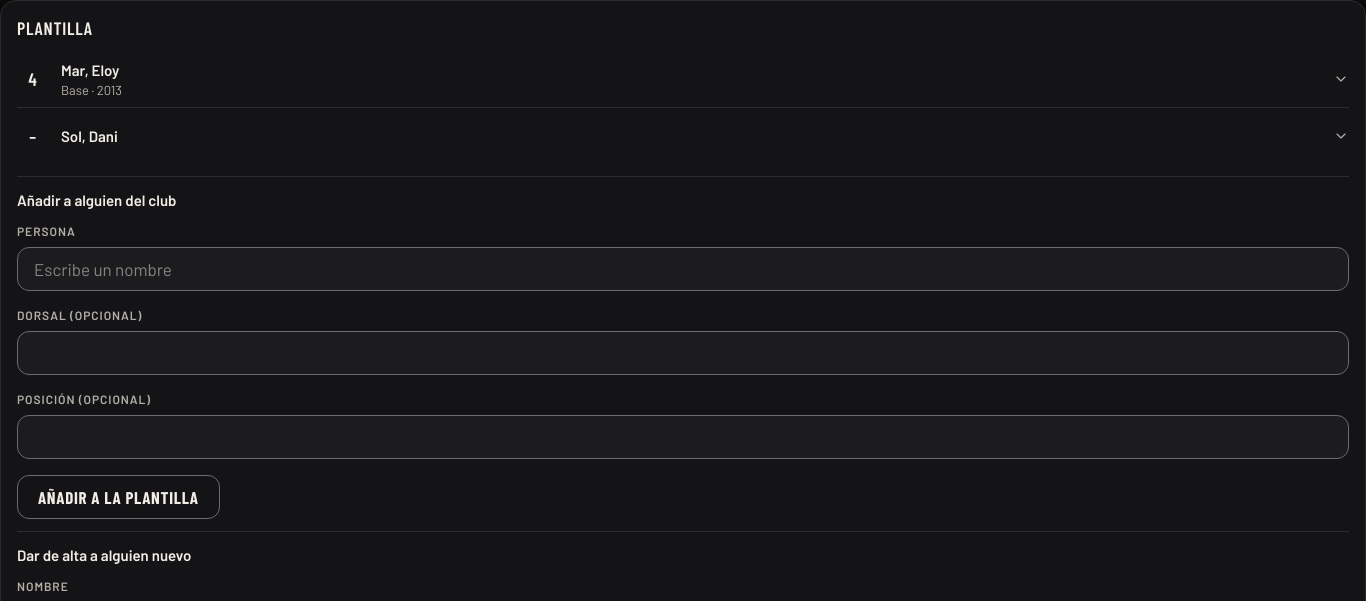
Test: RosterSection · añadir a alguien del club › añade a la persona elegida con su dorsal, como número, y su posición
The width and height of the screenshot is (1366, 601).
Type "soler" into the search field labelled "Persona".
click(683, 269); type("soler")  # box x1=17 y1=247 x2=1349 y2=291
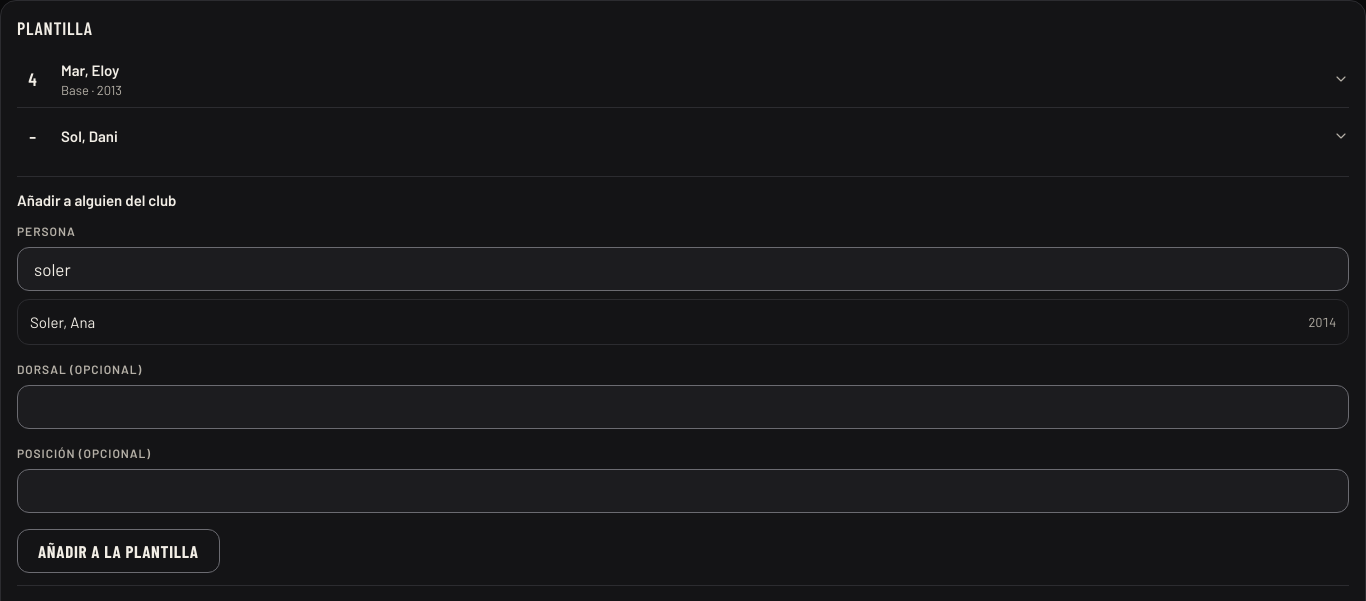
Click the button "Soler, Ana 2014".
click(63, 322)  # box x1=18 y1=300 x2=1348 y2=344
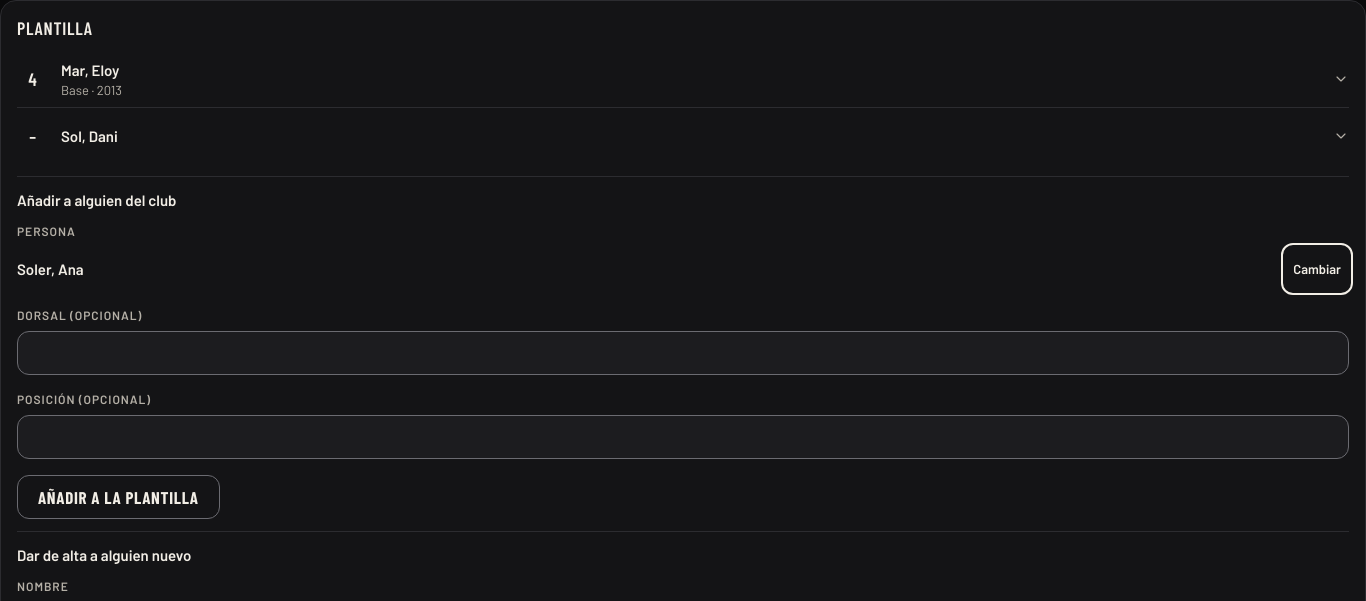
Type "7" into the number field labelled "Dorsal (opcional)".
click(683, 353); type("7")  # box x1=17 y1=331 x2=1349 y2=375
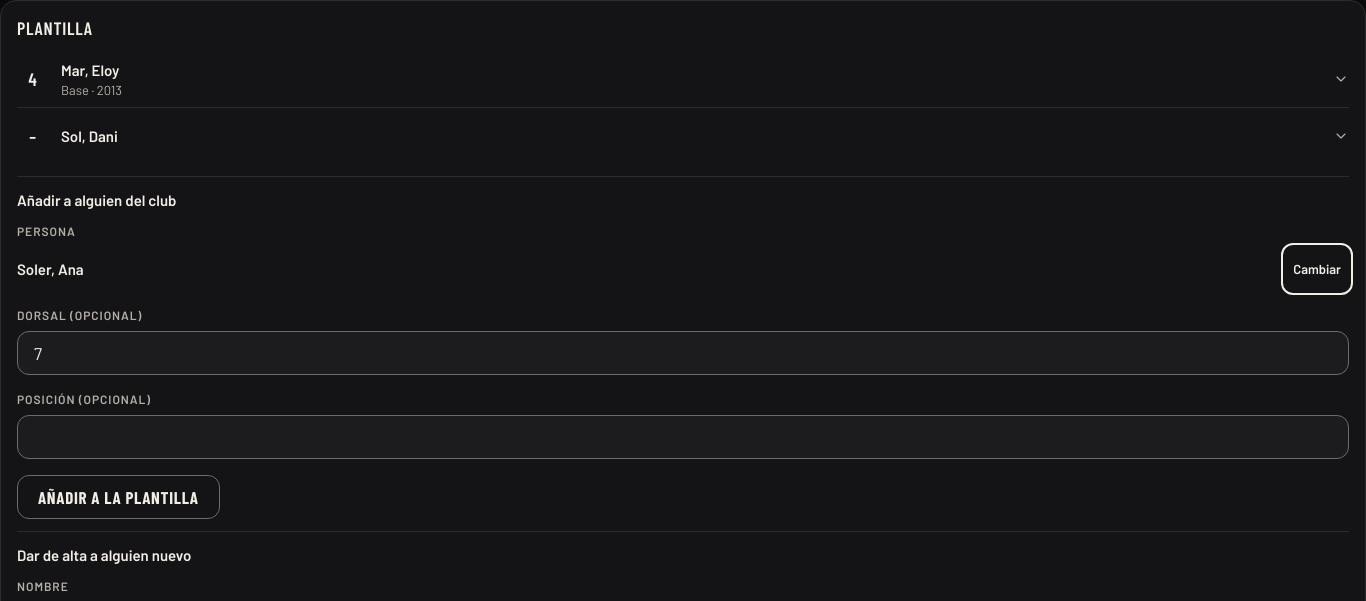
Type "Base" into the field labelled "Posición (opcional)".
click(683, 437); type("Base")  # box x1=17 y1=415 x2=1349 y2=459
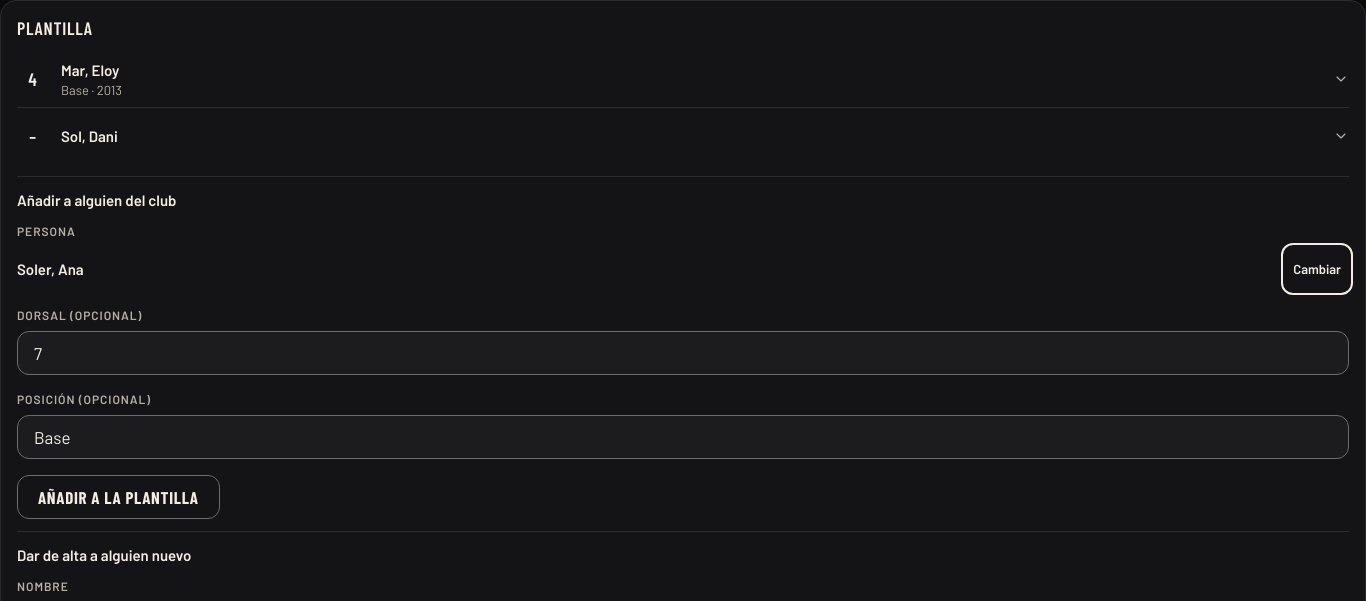
Click the button "Añadir a la plantilla".
click(118, 497)  # box x1=17 y1=475 x2=220 y2=519
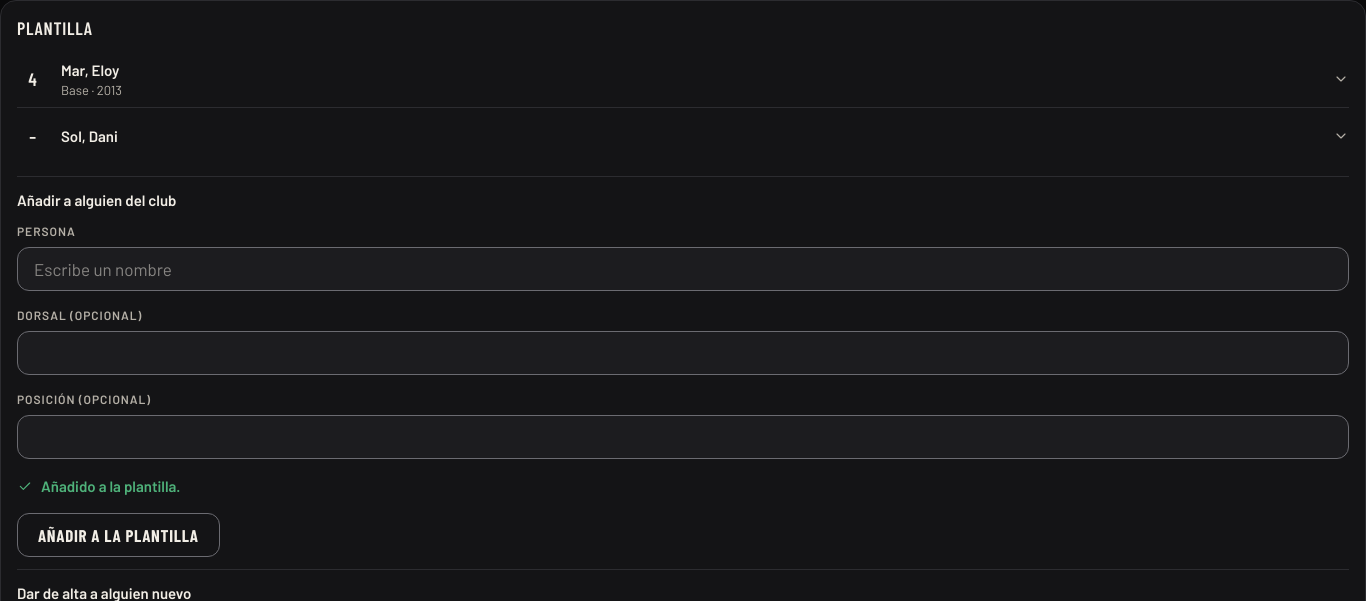
Expected: the text "Añadido a la plantilla." is shown, x1=17 y1=477 x2=180 y2=495
